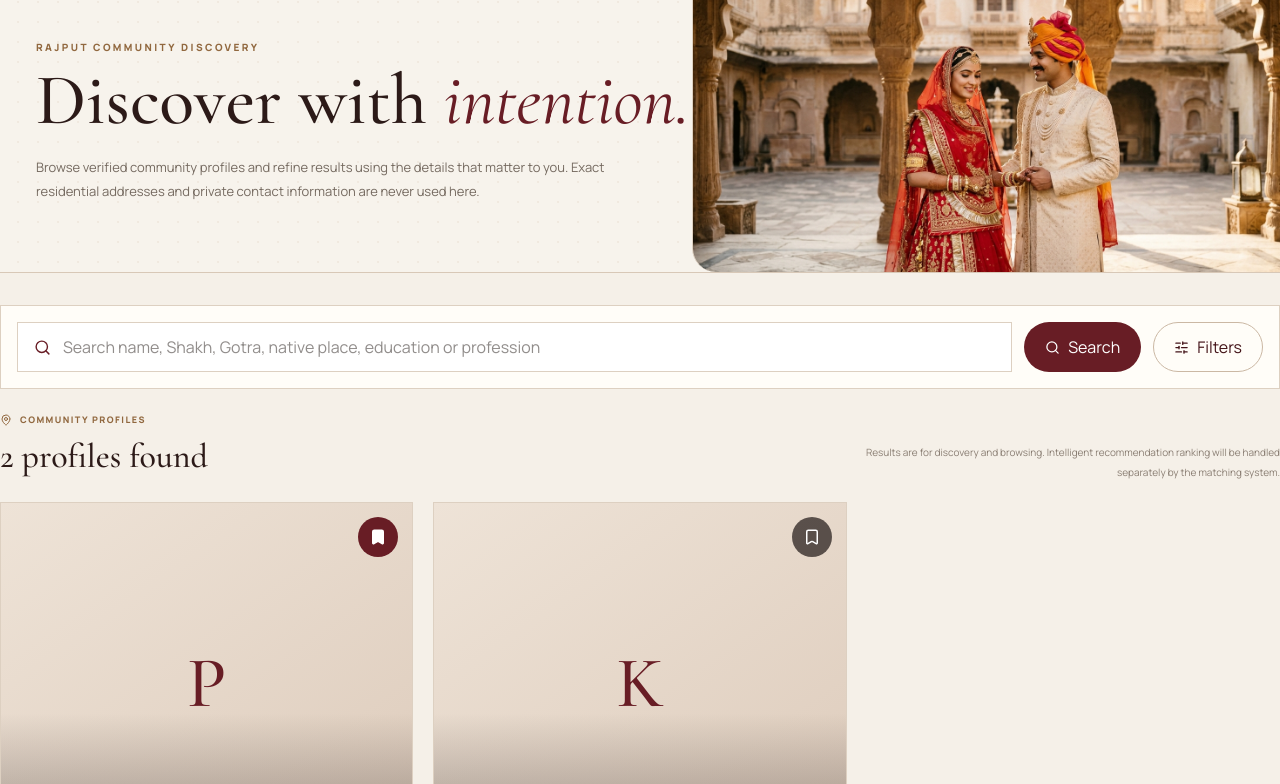
it: DiscoverPage › applies native district and state filters and keeps them in URL
Click the button "Filters". click: point(1208, 347)
box: [1153, 322, 1263, 372]
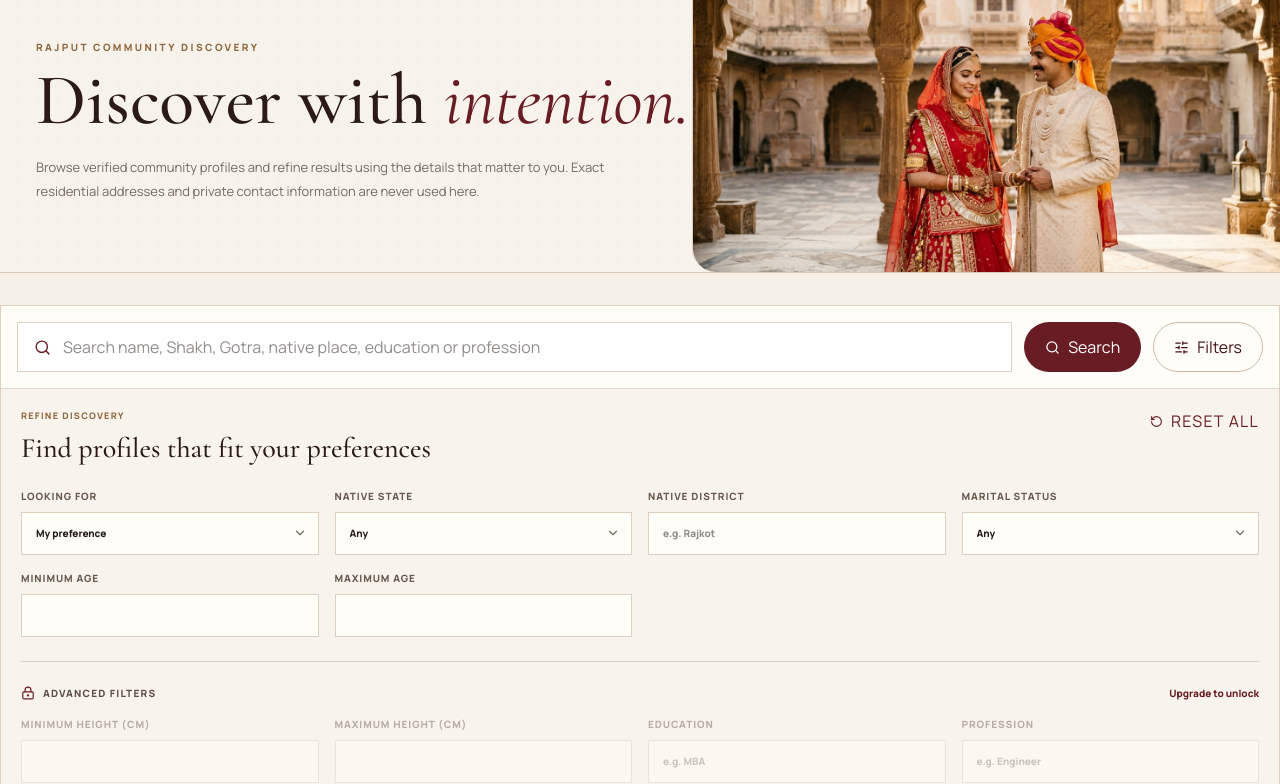
Type "Rajkot" into the field labelled "Native District". click: point(797, 533)
box: [648, 512, 946, 554]
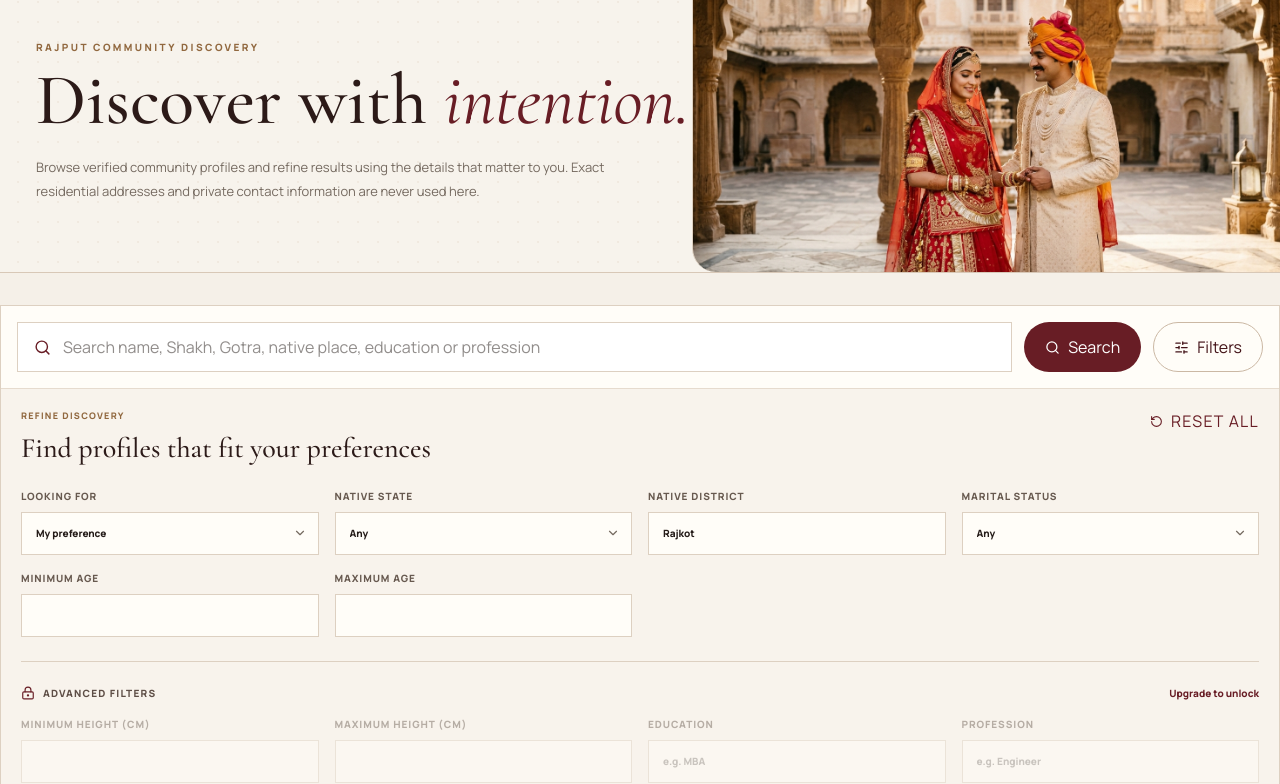
Select "Gujarat" in the dropdown labelled "Native State". click: point(483, 533)
box: [334, 512, 632, 554]
(page scrolled)
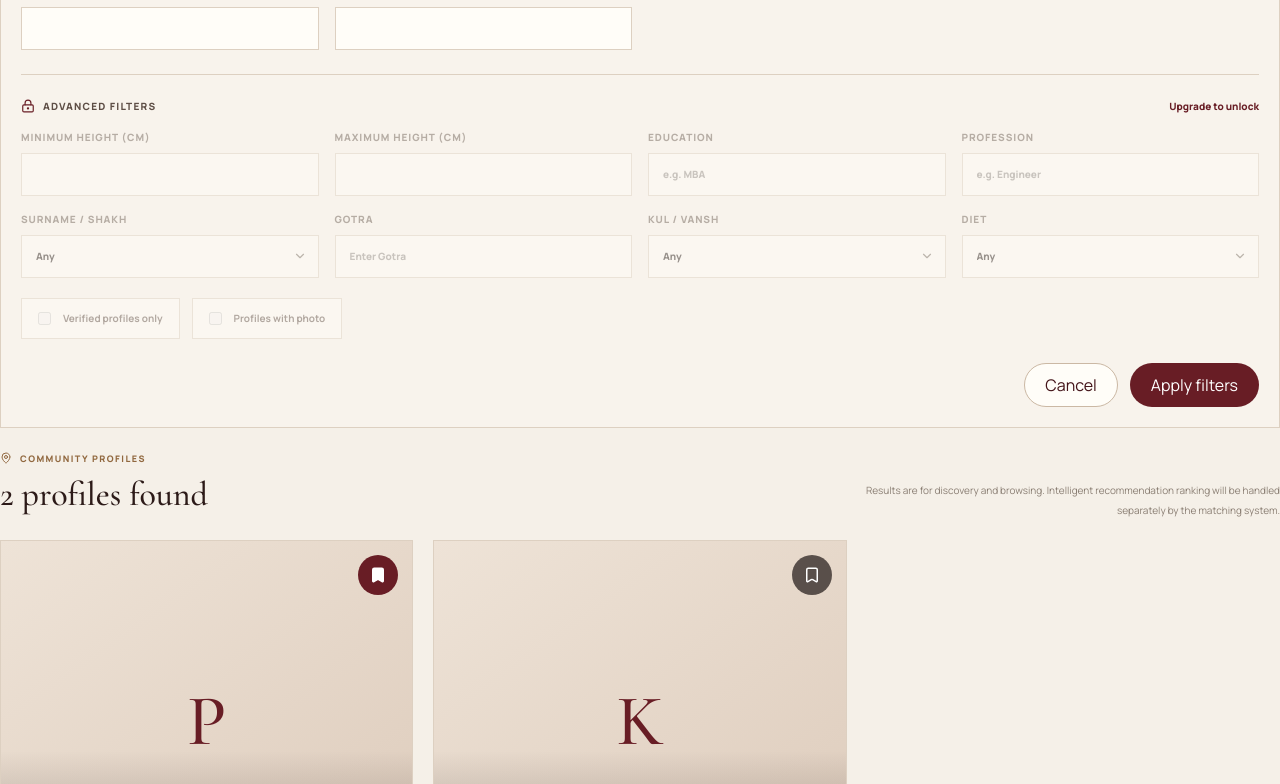
Click the button "Apply filters". click: point(1194, 384)
box: [1130, 362, 1259, 406]
(page scrolled)
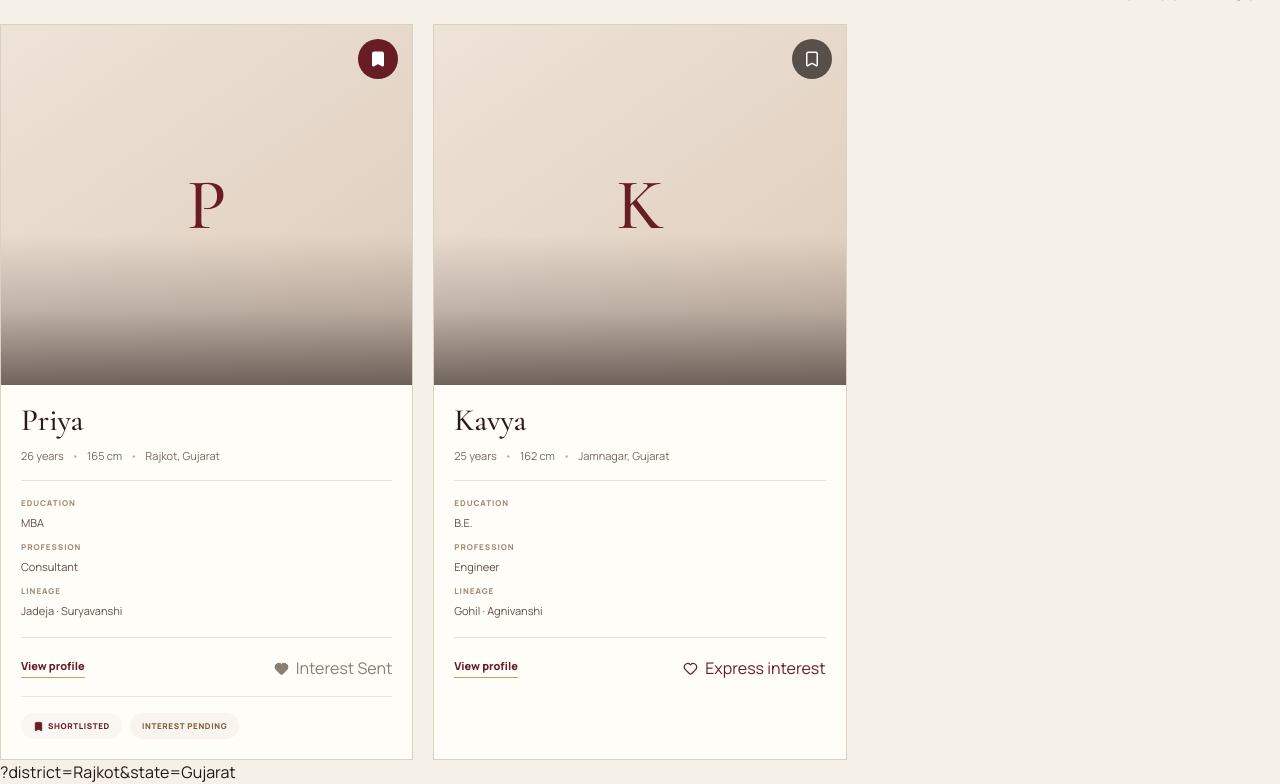
Expected: the text with test id "location" shows "district=Rajkot", [0, 761, 236, 783]
Expected: the text with test id "location" shows "state=Gujarat", [0, 761, 236, 783]
